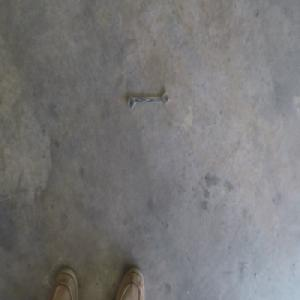Wrench: (127, 91, 169, 108)
